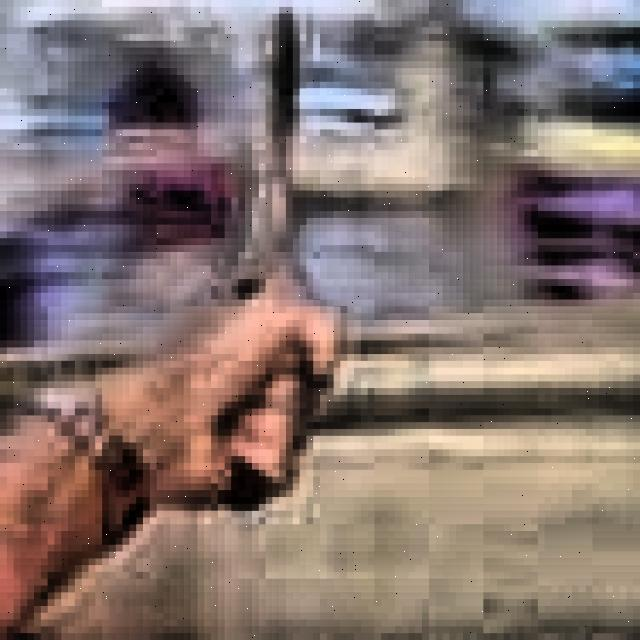knife: (224, 6, 302, 507)
